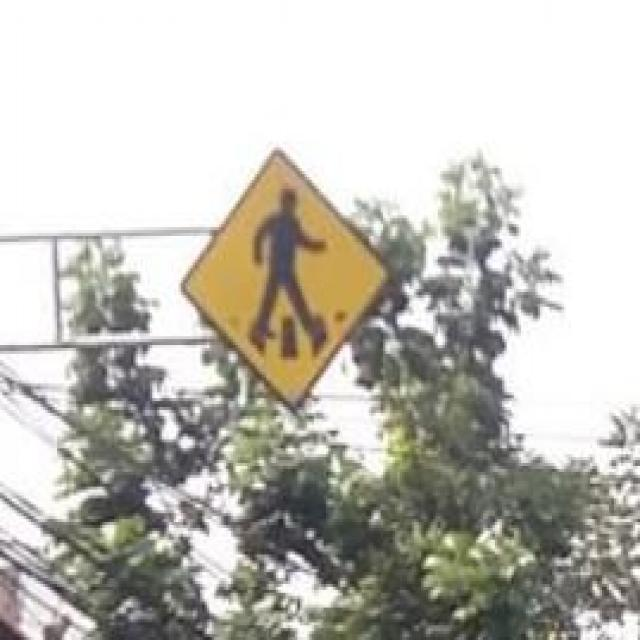traffic sign: (186, 153, 386, 404)
